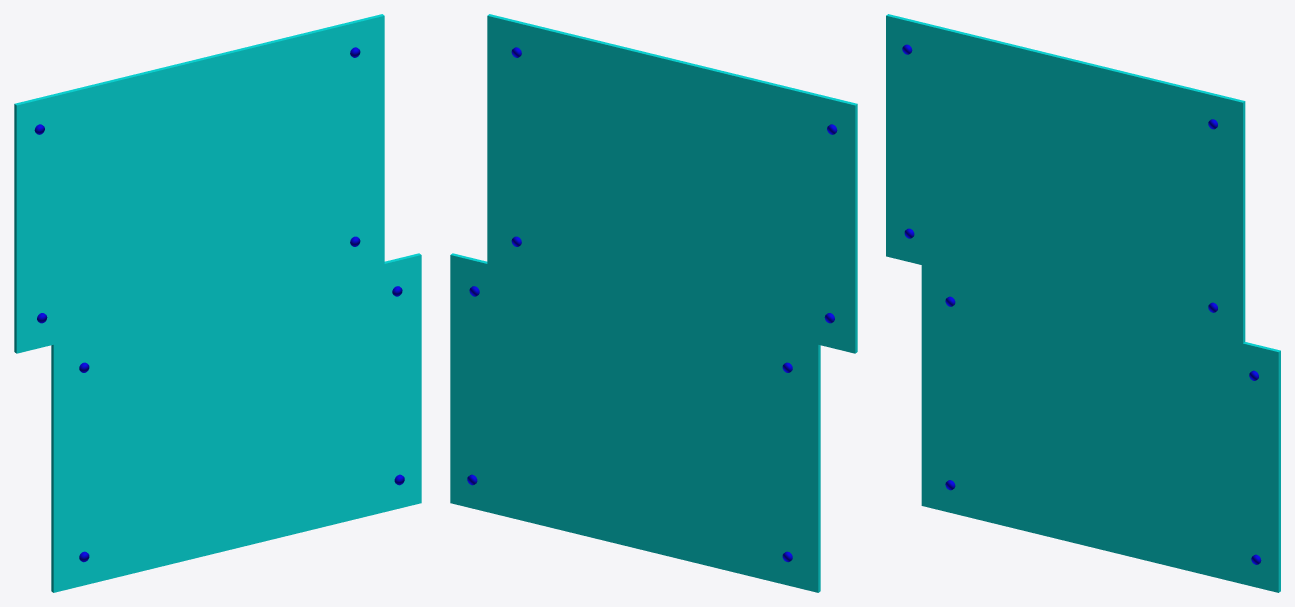
The model's file is cuadro_09_low.fbx.
3 renders of one model, left to right at view 1: azimuth 30°, elevation 25°; view 2: azimuth 150°, elevation 25°; view 3: azimuth 330°, elevation 25°, orthographic. The views are drawn at different scales.
Visible parts, largest first — view 1: cuadro_superior (×2); view 2: cuadro_superior (×2); view 3: cuadro_superior (×2).
Part boxes in pixels (box(x1,y1,x2,y2)): cuadro_superior (×2): box(14, 14, 421, 592); cuadro_superior (×2): box(450, 14, 857, 592); cuadro_superior (×2): box(886, 14, 1280, 592).
Bounding box in the file's own units: 99 × 116 × 2.
